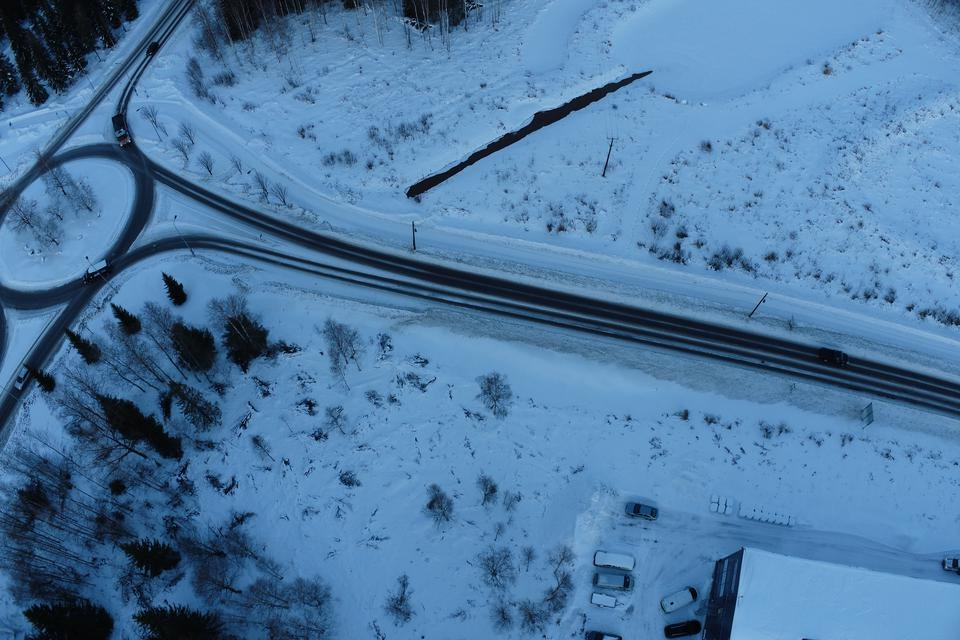roundabout: (0, 100, 185, 341)
